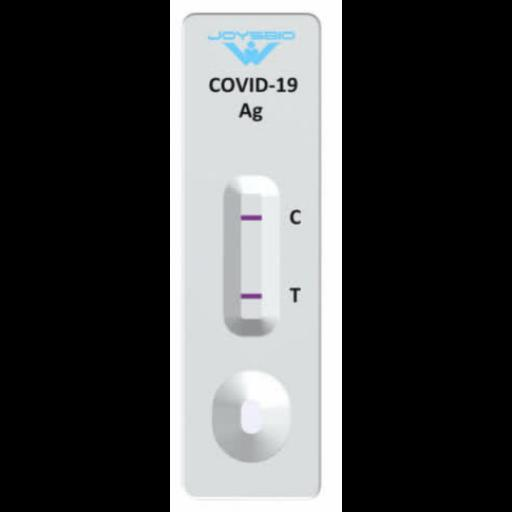Pos: (176, 13, 320, 499)
